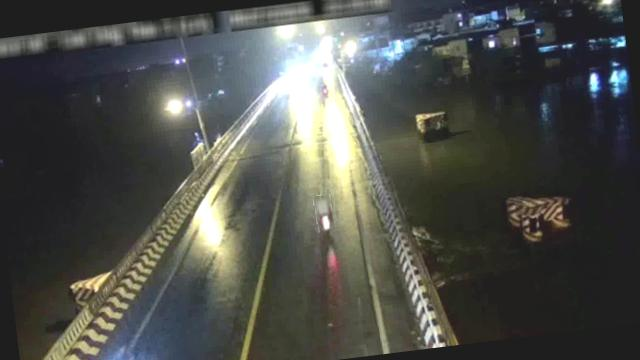Bike: (314, 194, 334, 233), (319, 84, 326, 94)
